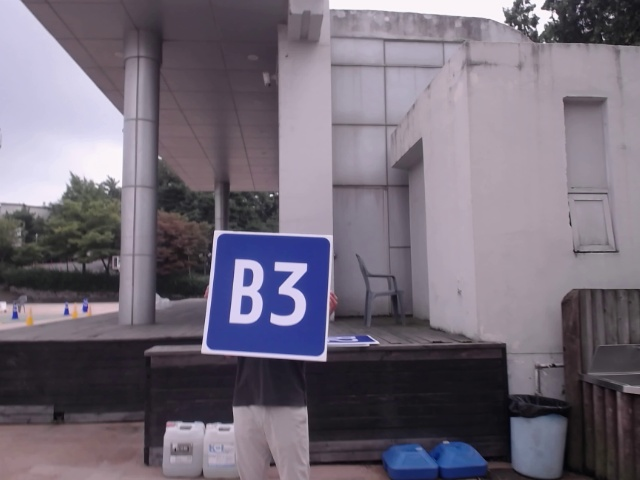delivery_b3: (206, 233, 331, 358)
